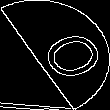O_SW: (14, 24, 96, 86)
